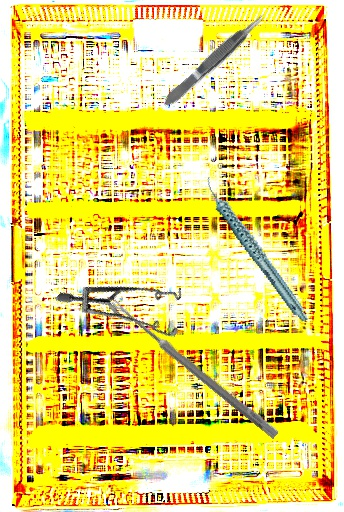Handpiece: (202, 161, 310, 337)
Speculum: (53, 230, 202, 376)
Surgical Spoon: (109, 297, 280, 440)
Tissue Forceps: (158, 8, 272, 110)
